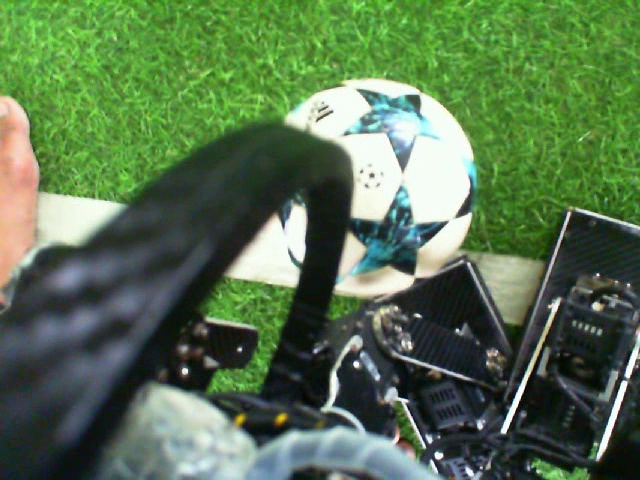ball: (319, 75, 479, 307)
